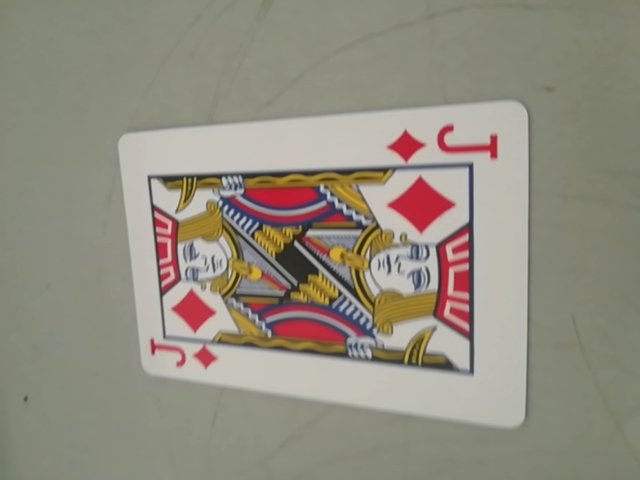fk j: (383, 120, 503, 167), (148, 333, 222, 379)
